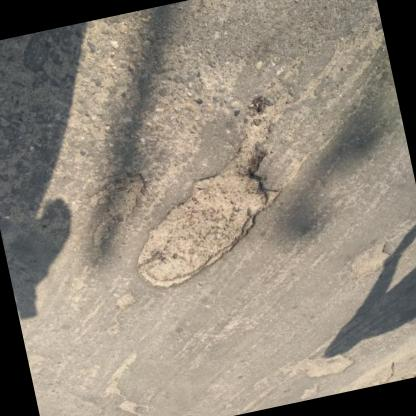pothole: (112, 116, 306, 296), (76, 169, 158, 252), (94, 348, 158, 416), (342, 238, 400, 283), (294, 344, 356, 382), (112, 290, 140, 312), (298, 383, 321, 401)
